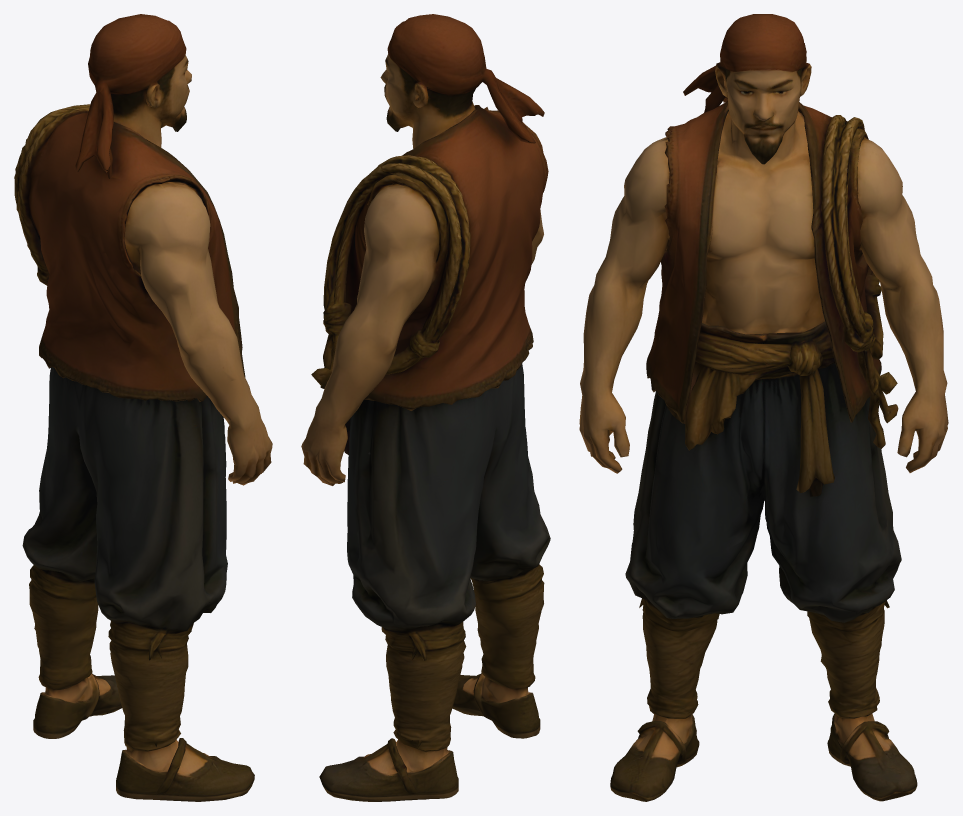
The model's file is sandgang-mesh.glb.
3 renders of one model, left to right at view 1: azimuth 30°, elevation 25°; view 2: azimuth 150°, elevation 25°; view 3: azimuth 270°, elevation 25°, orthographic. The views are drawn at different scales.
Visible parts, largest first — view 1: tripo_node_02e2a978-9a1e-4351-8c3c-6b66016a32f1; view 2: tripo_node_02e2a978-9a1e-4351-8c3c-6b66016a32f1; view 3: tripo_node_02e2a978-9a1e-4351-8c3c-6b66016a32f1.
Part boxes in pixels (left/top/right/bottom): tripo_node_02e2a978-9a1e-4351-8c3c-6b66016a32f1: left=14, top=14, right=272, bottom=801; tripo_node_02e2a978-9a1e-4351-8c3c-6b66016a32f1: left=301, top=14, right=550, bottom=801; tripo_node_02e2a978-9a1e-4351-8c3c-6b66016a32f1: left=579, top=14, right=948, bottom=801.
Bounding box in the file's own units: 0.2318 × 1 × 0.4404.
Materials: 1 (1 with a texture image).
